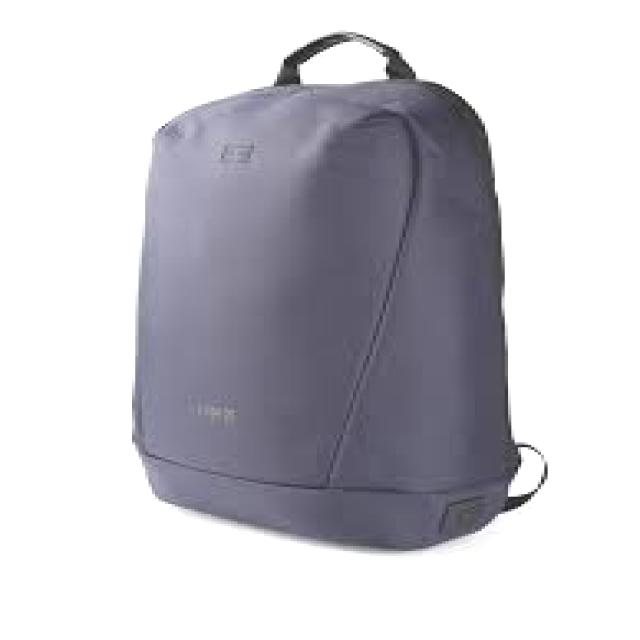backpack: (130, 31, 549, 550)
